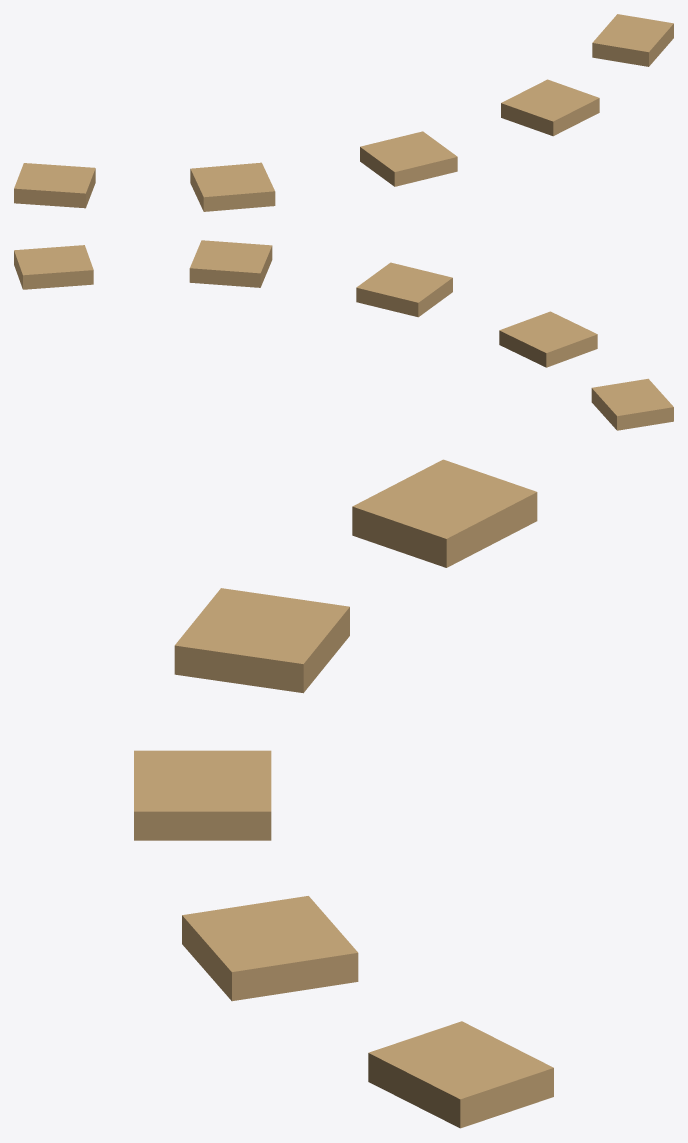
The model's file is collider pijakan meja siswa.fbx.
3 renders of one model, top to bottom at view 1: azimuth 30°, elevation 25°; view 2: azimuth 150°, elevation 25°; view 3: azimuth 270°, elevation 25°, orthographic. The views are drawn at different scales.
Visible parts, largest first — view 1: pijakan 8, pijakan 9, pijakan 7, pijakan 7.001, pijakan 10; view 2: pijakan 7, pijakan 8, pijakan 9, pijakan 7.001, pijakan 10; view 3: pijakan 7, pijakan 9, pijakan 7.001, pijakan 10, pijakan 8.
Boxes of the visible parts, x1=… form: pijakan 8: x1=360, y1=131, x2=457, y2=186; pijakan 9: x1=501, y1=79, x2=599, y2=136; pijakan 7: x1=190, y1=162, x2=275, y2=211; pijakan 7.001: x1=14, y1=163, x2=95, y2=208; pijakan 10: x1=592, y1=14, x2=673, y2=66; pijakan 7: x1=499, y1=311, x2=597, y2=367; pijakan 8: x1=356, y1=262, x2=452, y2=317; pijakan 9: x1=189, y1=240, x2=272, y2=287; pijakan 7.001: x1=591, y1=378, x2=673, y2=430; pijakan 10: x1=14, y1=245, x2=93, y2=289; pijakan 7: x1=174, y1=588, x2=349, y2=693; pijakan 9: x1=182, y1=896, x2=358, y2=1001; pijakan 7.001: x1=352, y1=459, x2=537, y2=567; pijakan 10: x1=368, y1=1021, x2=553, y2=1128; pijakan 8: x1=134, y1=750, x2=271, y2=840.
Size of the model in its own units: 2761 by 58.51 by 766.
